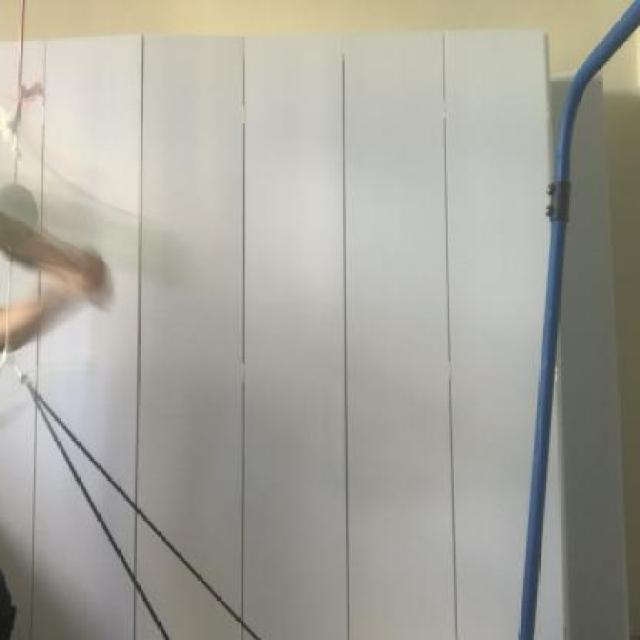baseball: (0, 171, 197, 306)
